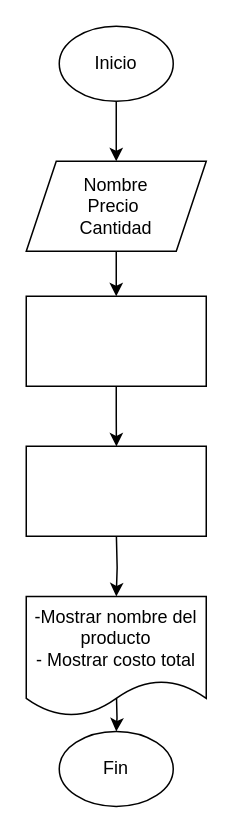
Image size: 233x834. Some labels were removed from this diagram. Each missing label, with the centre of its shape:
calcular costo total costo= cantiad * precio: pixel 115 490
Leer nombre Leer precio Leer cantidad: pixel 115 340
